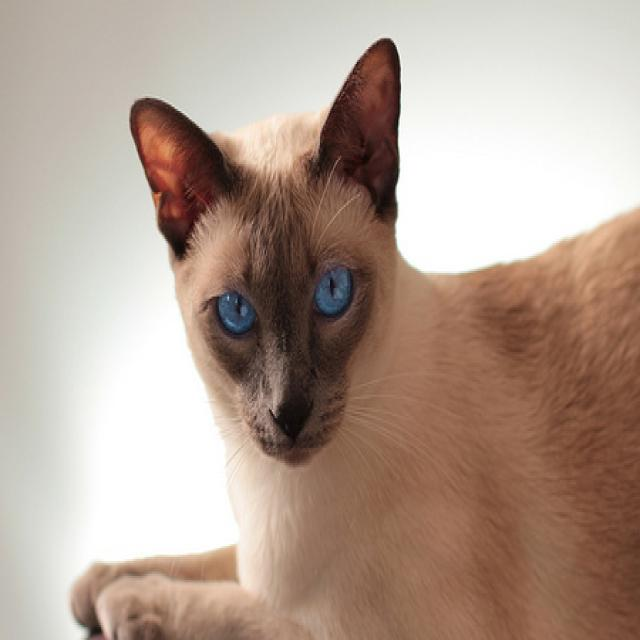Siamese: (61, 34, 640, 640)
